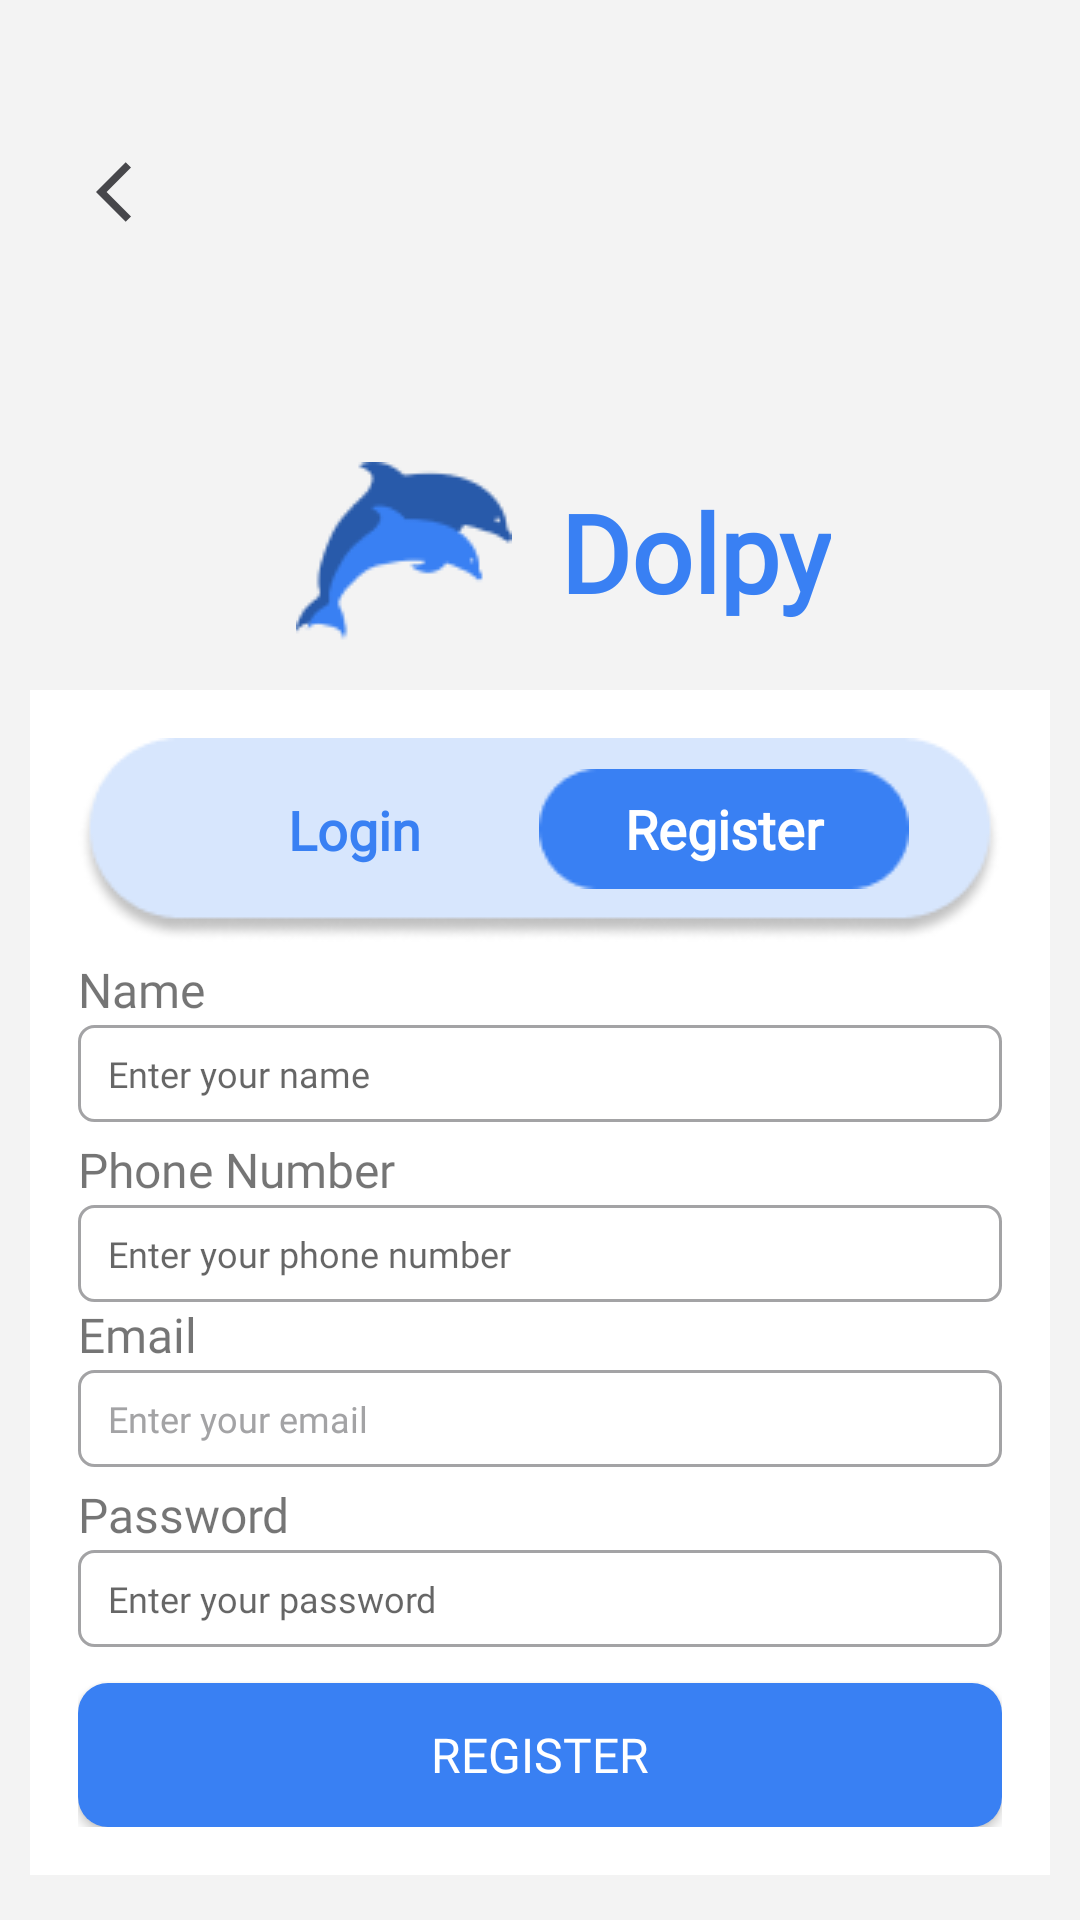

Icons on this 1080*1920 Android screen, each with the point to tap as [x,y]:
arrow back: [113,192]
